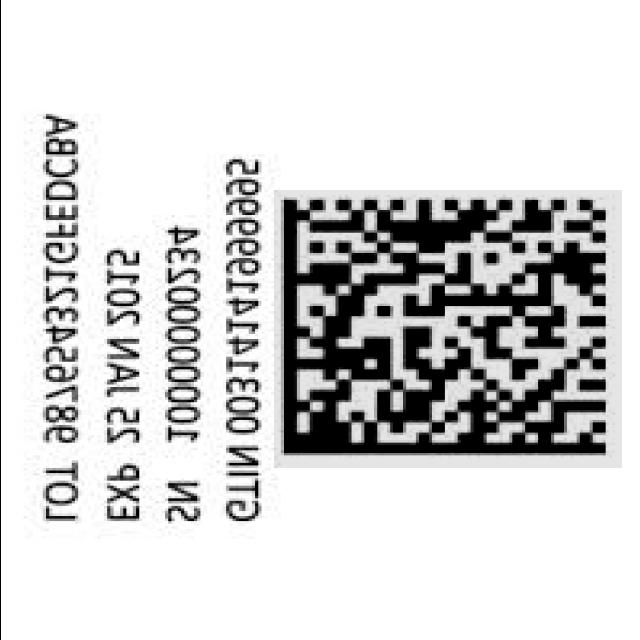DataMatrix: (273, 190, 621, 468)
